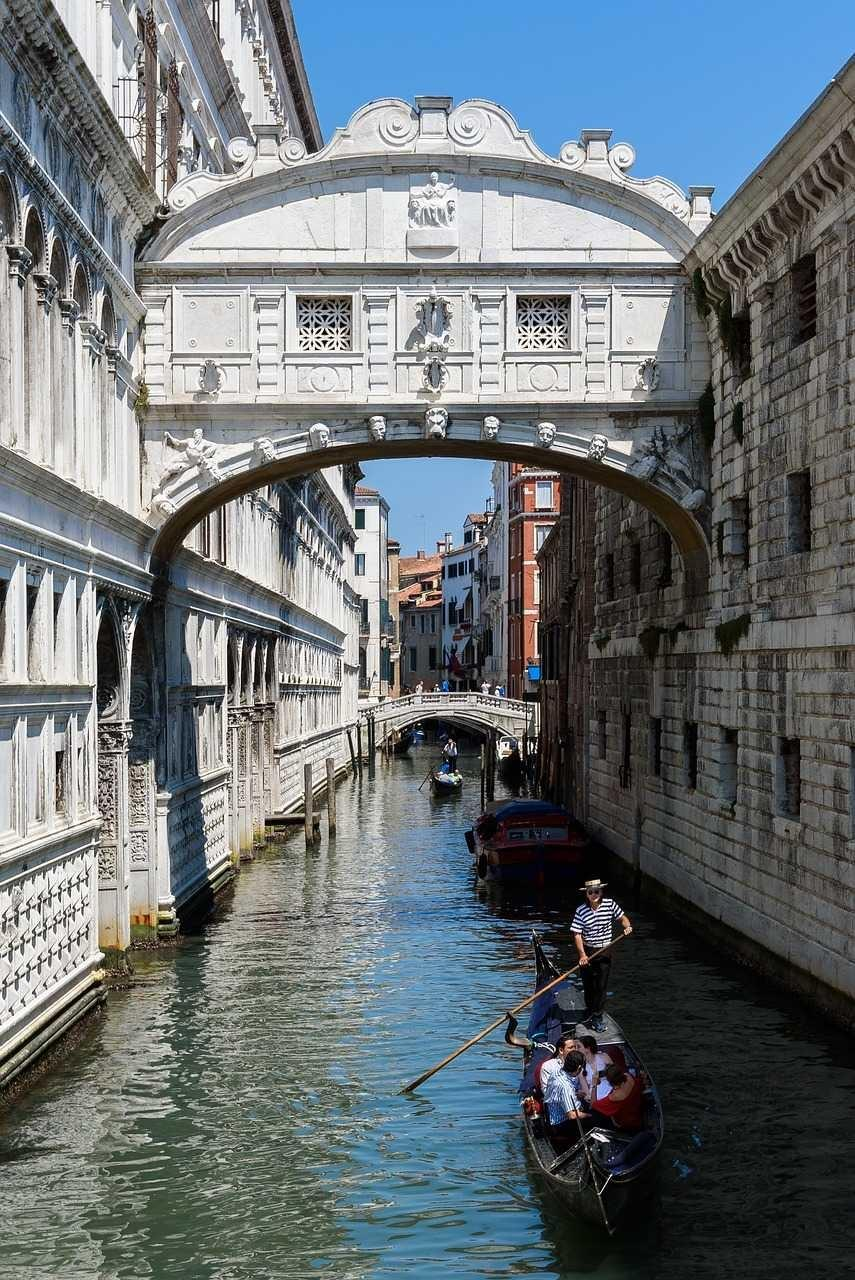kayak: (510, 951, 665, 1240), (466, 799, 590, 885), (430, 763, 462, 797)
